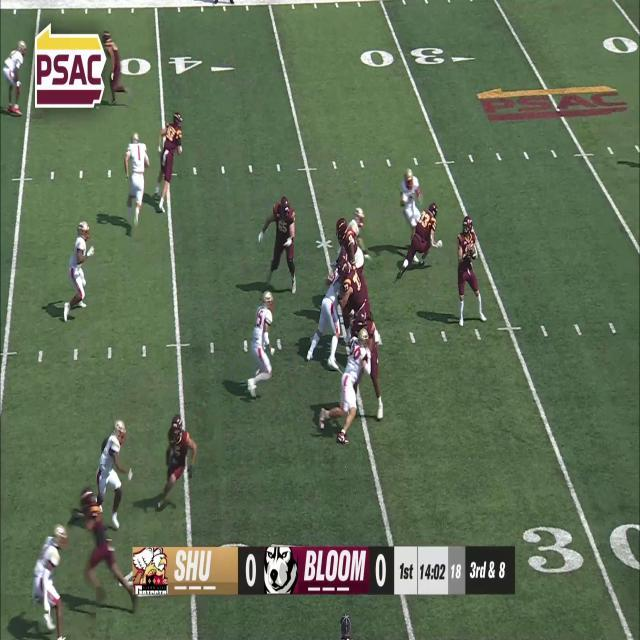football: (468, 242, 478, 262)
